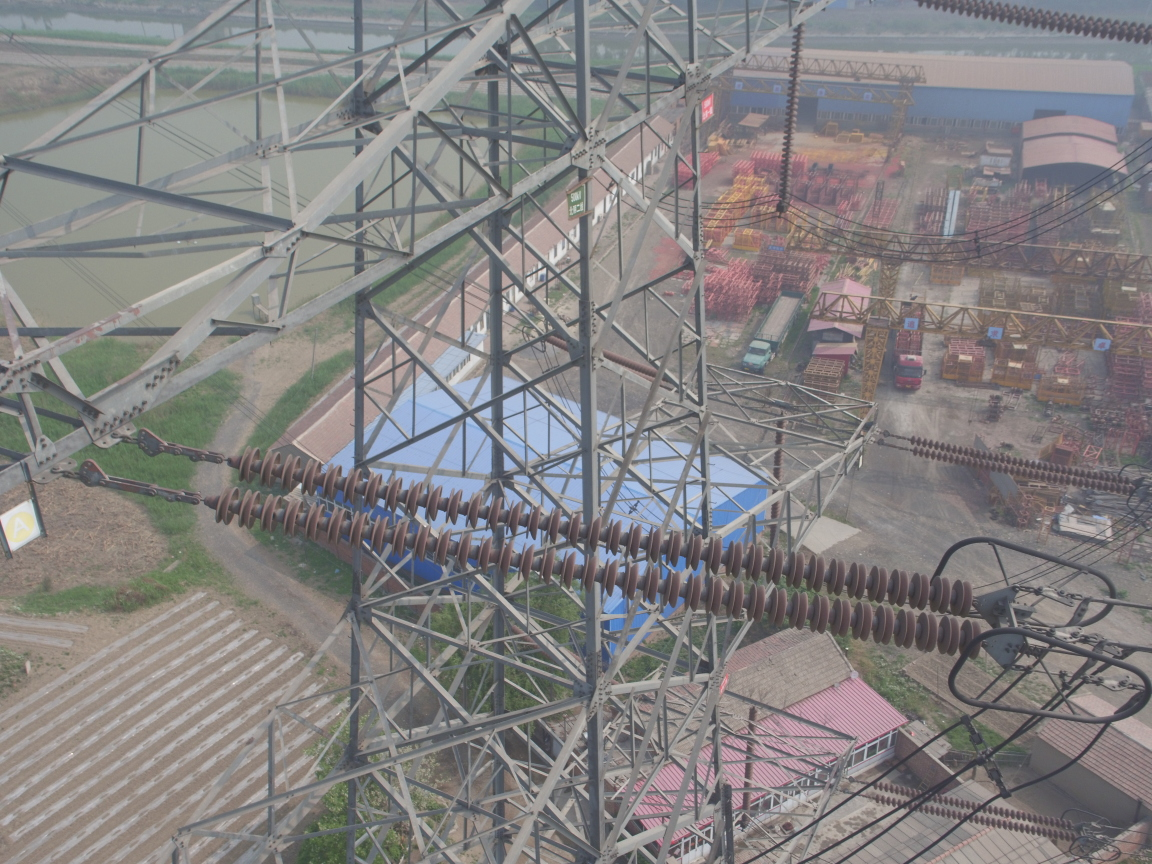insulator: (177, 440, 1000, 662), (898, 432, 1144, 500), (861, 774, 1077, 847), (918, 1, 1152, 50)
